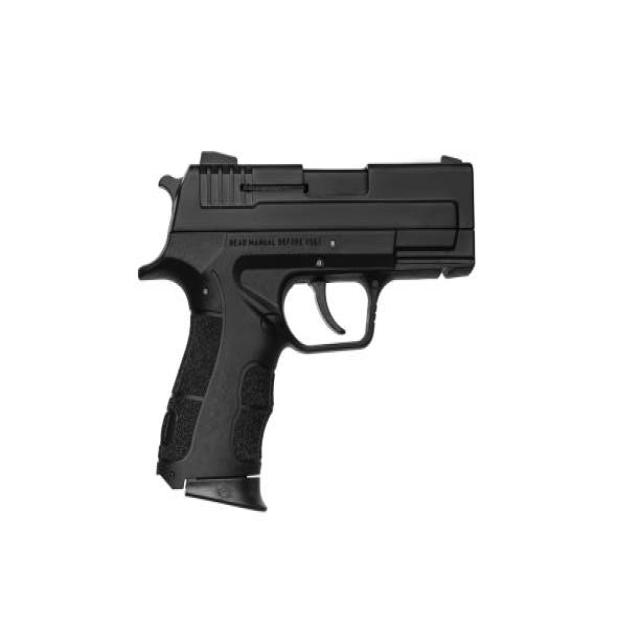pistol: (134, 140, 483, 523)
